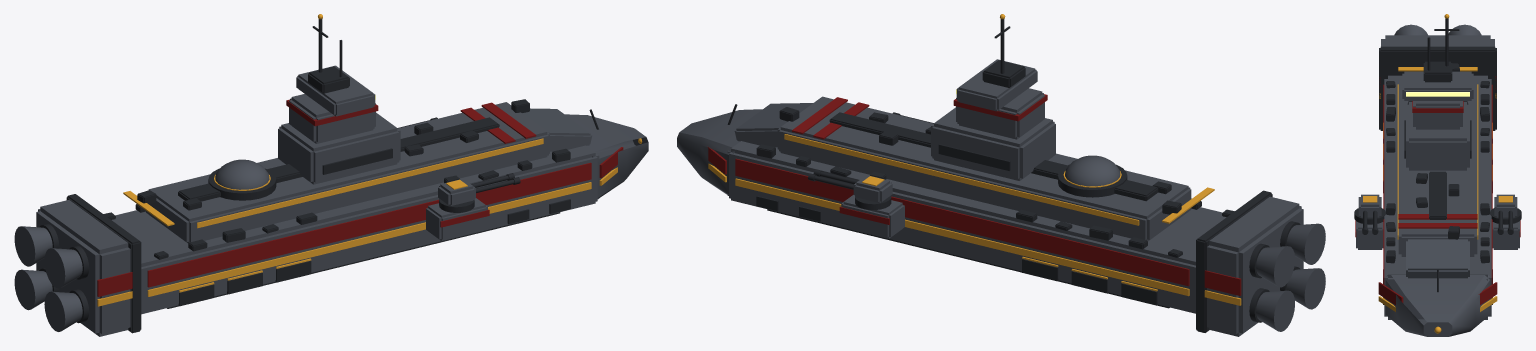
File: cruiser.glb
The picture shows the model from 3 angles, left to right: view 1: azimuth 30°, elevation 25°; view 2: azimuth 150°, elevation 25°; view 3: azimuth 270°, elevation 25°; orthographic projection. The views are drawn at different scales.
Parts seen in each view (by area): view 1: cruiser_gunmetal, cruiser_darksteel, cruiser_oxblood, cruiser_amber; view 2: cruiser_gunmetal, cruiser_darksteel, cruiser_oxblood, cruiser_amber; view 3: cruiser_gunmetal, cruiser_darksteel, cruiser_oxblood, cruiser_amber, cruiser_drive_glow.
Part boxes in pixels (<box>): cruiser_gunmetal: <box>14,65,648,336</box>; cruiser_darksteel: <box>39,19,598,333</box>; cruiser_oxblood: <box>97,99,623,296</box>; cruiser_amber: <box>97,14,642,306</box>; cruiser_gunmetal: <box>677,59,1325,336</box>; cruiser_darksteel: <box>727,19,1300,332</box>; cruiser_oxblood: <box>707,94,1241,295</box>; cruiser_amber: <box>708,14,1241,305</box>; cruiser_gunmetal: <box>1356,24,1519,336</box>; cruiser_darksteel: <box>1354,18,1521,304</box>; cruiser_oxblood: <box>1355,76,1520,305</box>; cruiser_amber: <box>1363,14,1512,333</box>; cruiser_drive_glow: <box>1406,92,1469,96</box>.
Size of the model in its own units: 175 by 65.9 by 47.
